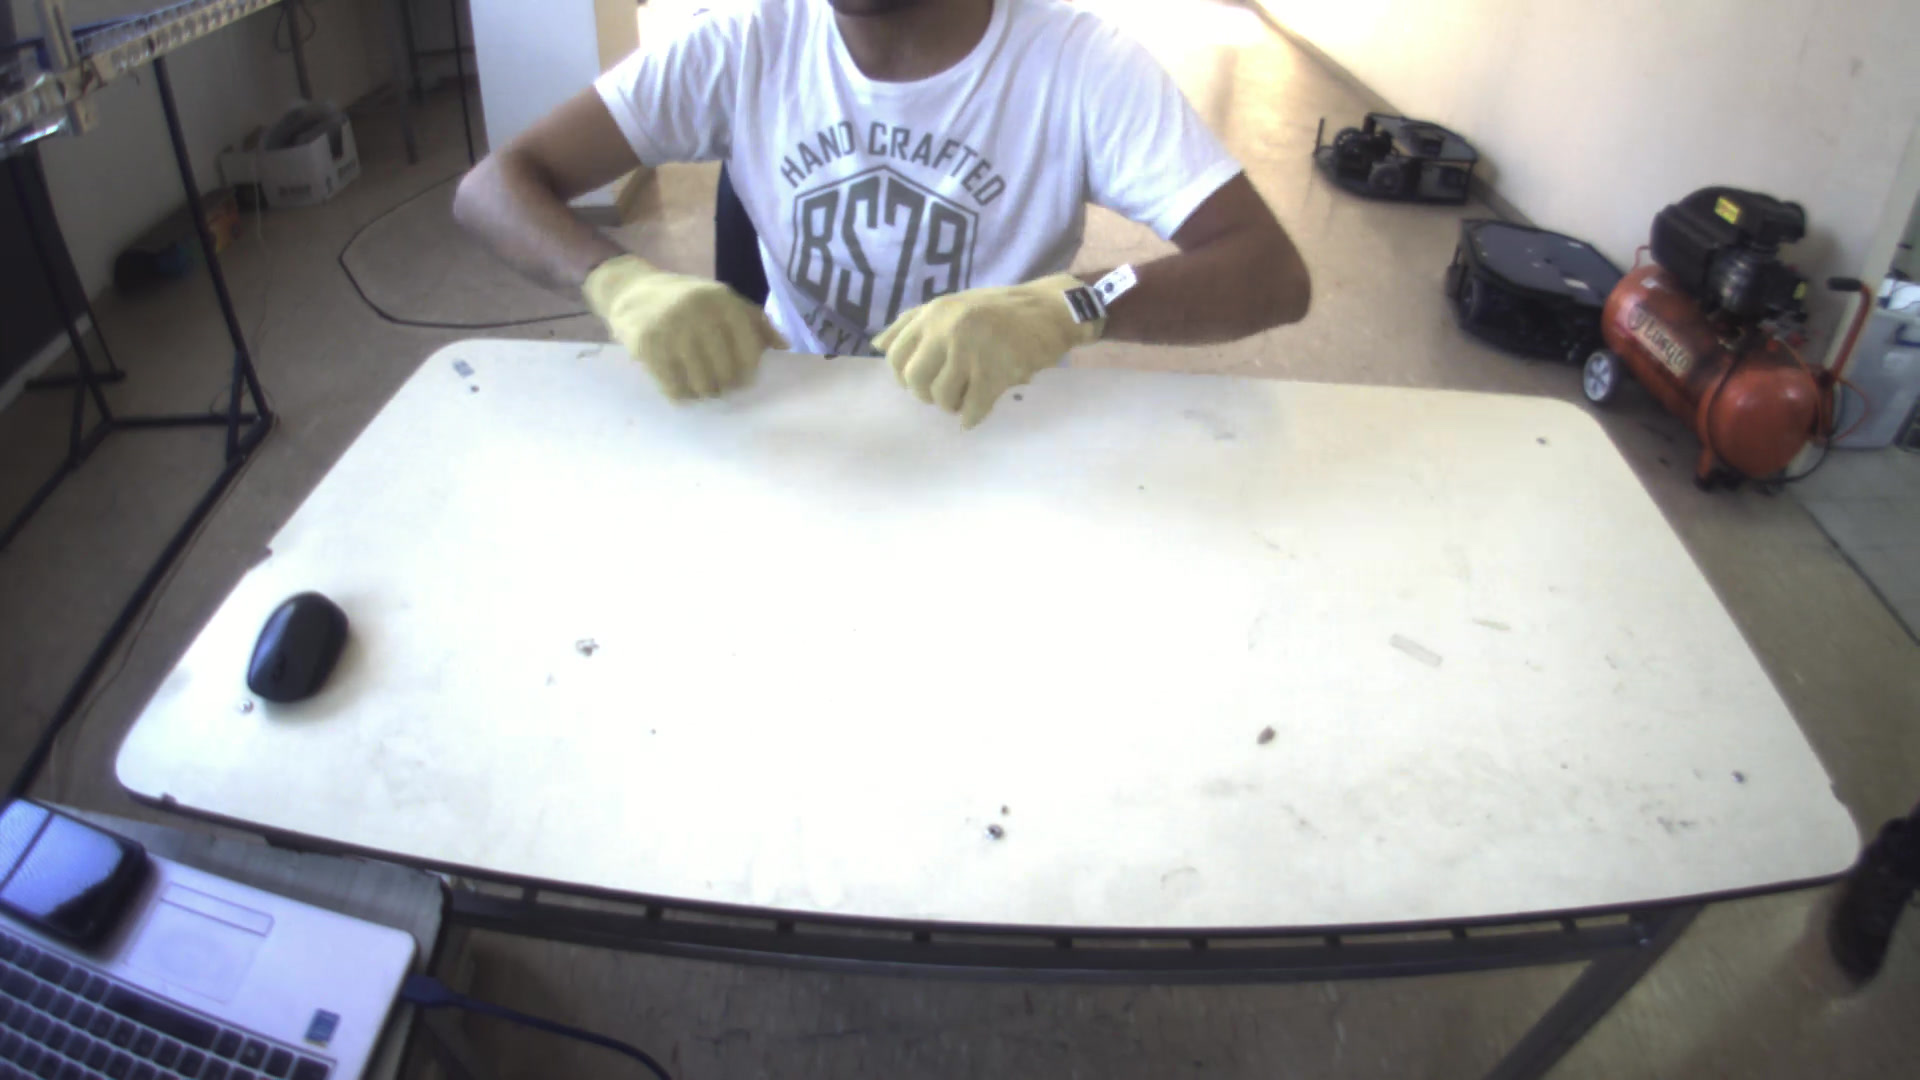hand: (860, 252, 1116, 429), (564, 239, 775, 402)
